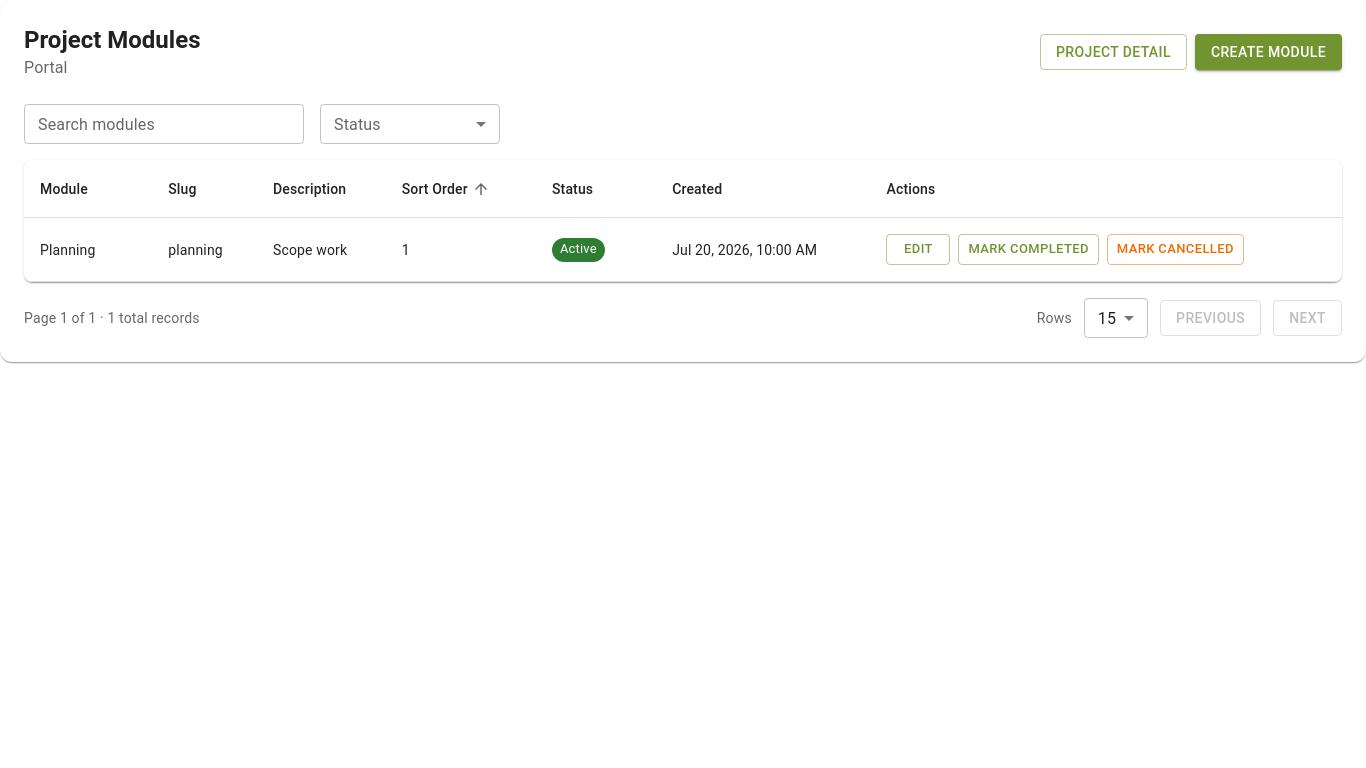
Test: Project pages › edits project modules and preserves lifecycle conflicts
Check: the text "Planning" is shown, box [40, 242, 96, 258]
Click the button "Edit". click: point(918, 250)
box: [886, 234, 950, 265]
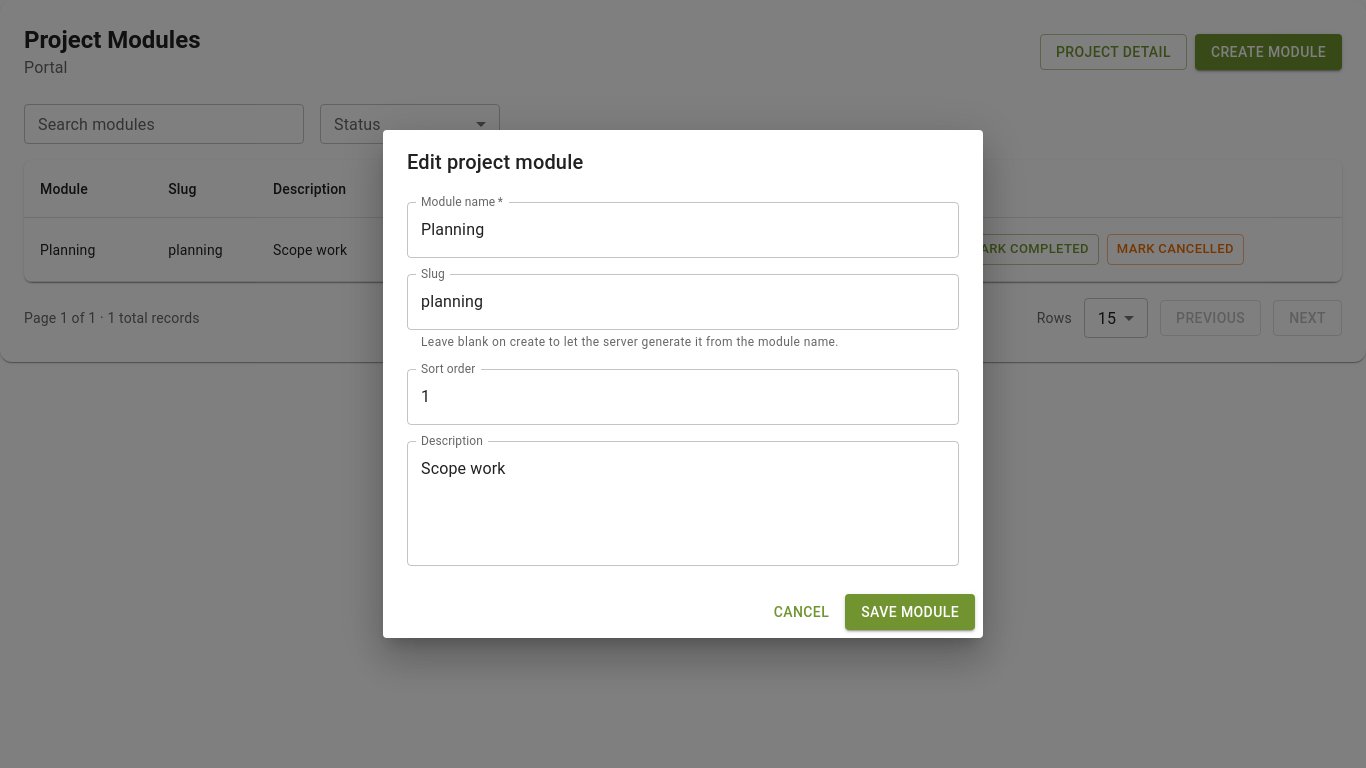
Replace the text in the field labelled "Module name *" with "Planning v2". click: point(683, 230)
box: [407, 202, 959, 258]
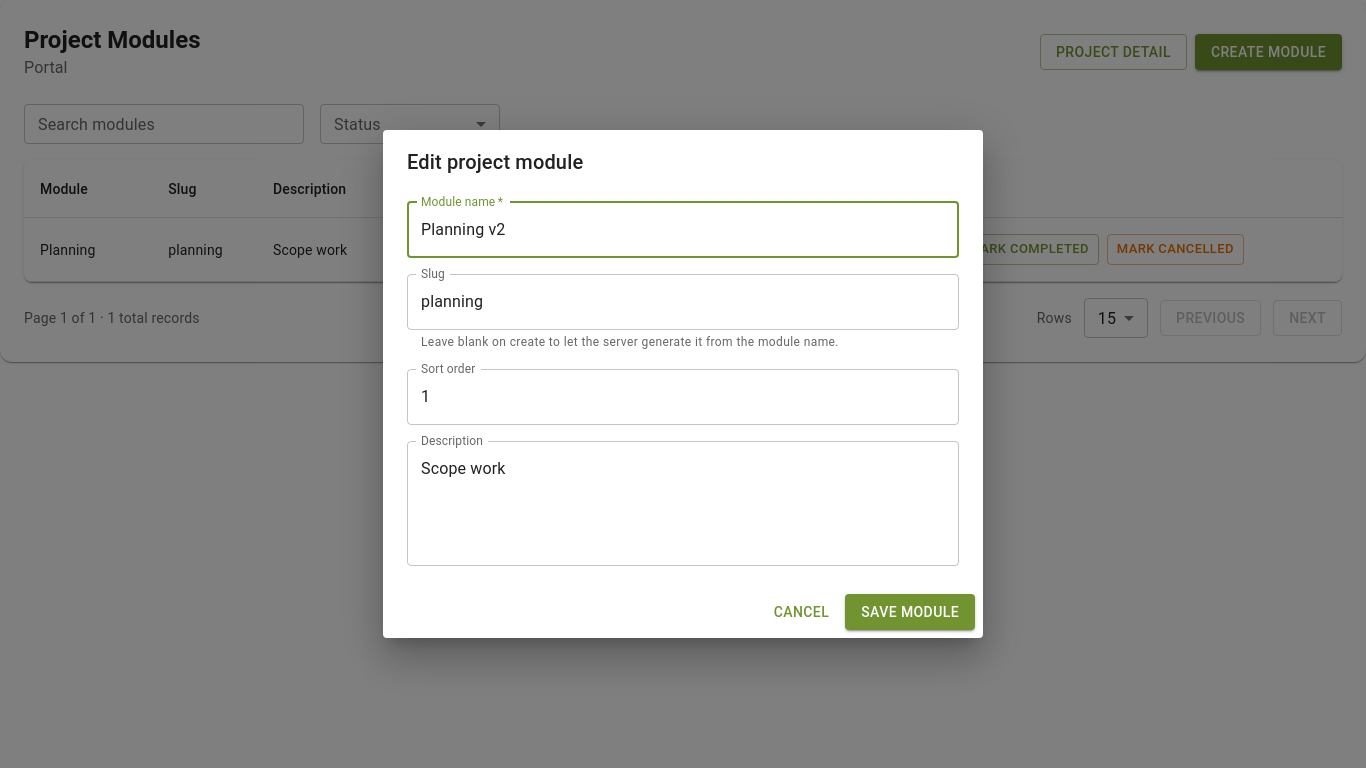
Click the button "Save Module". click: point(910, 612)
box: [845, 594, 975, 630]
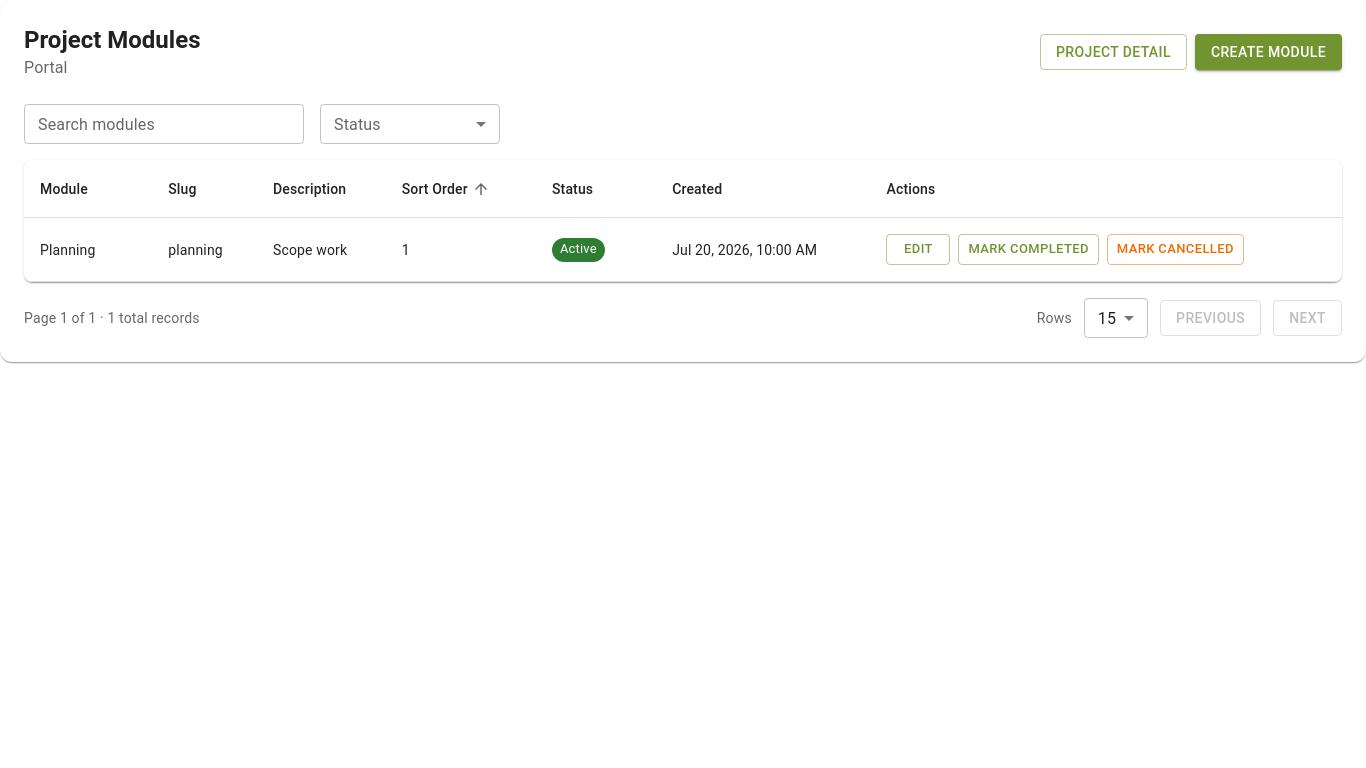
Check: the heading "Edit project module" is gone
Click the button "Mark Completed". click: point(1029, 250)
box: [958, 234, 1099, 265]
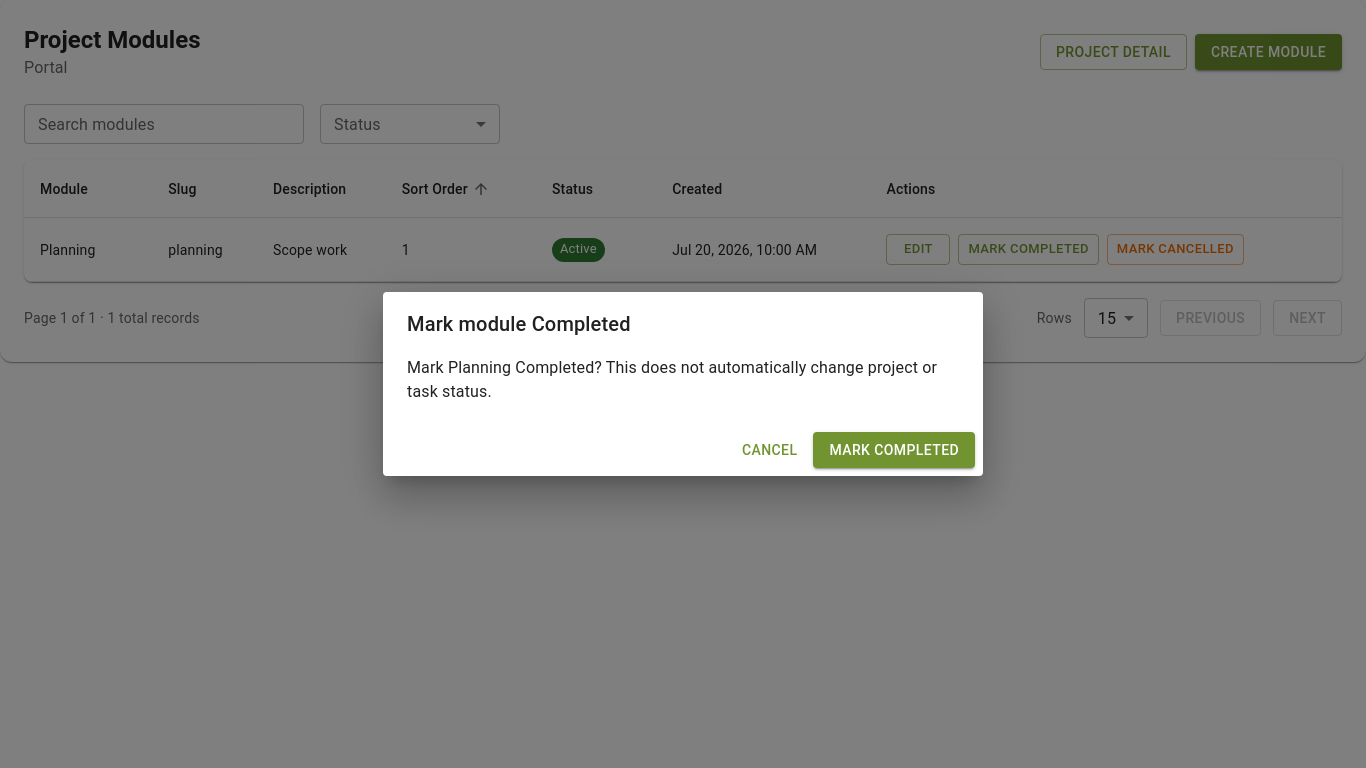
Check: the text "does not automatically change project or task status" is shown, box [407, 358, 937, 401]
Click the button "Mark Completed". click: point(894, 450)
box: [813, 432, 975, 468]
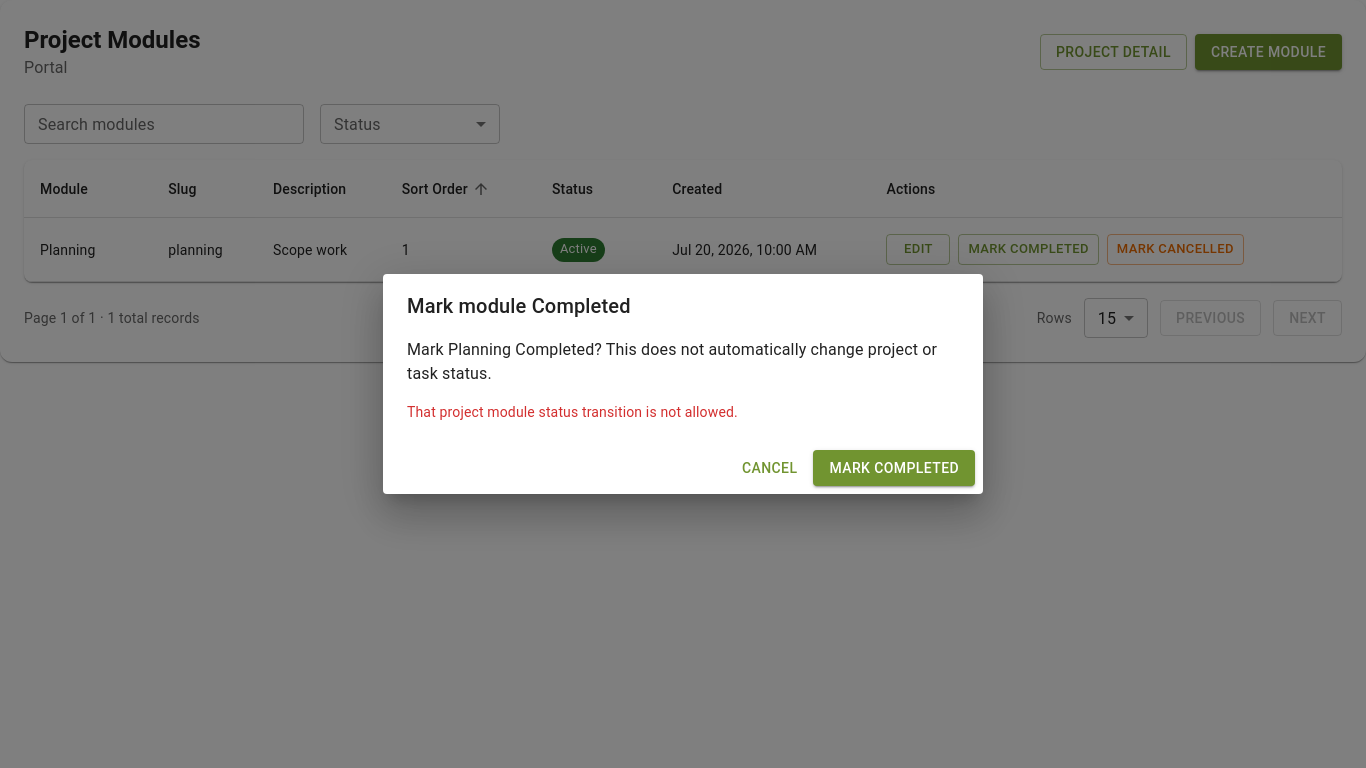
Check: the text "That project module status transition is not allowed." is shown, box [407, 404, 738, 420]
